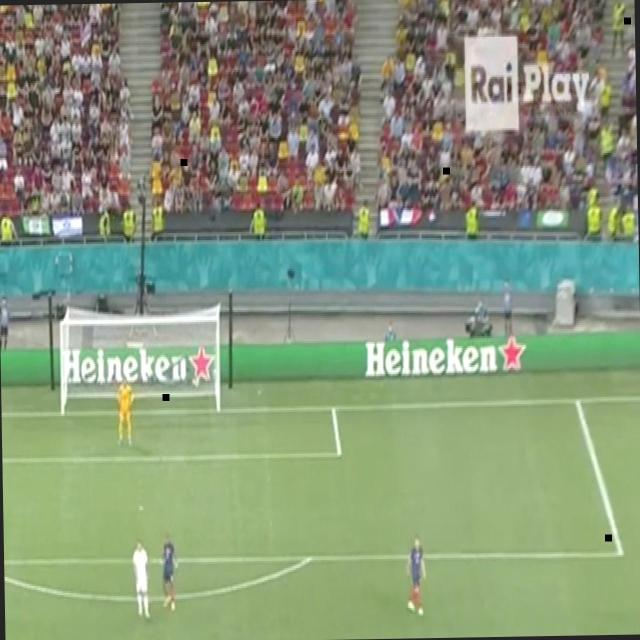player-white: (405, 532, 428, 620), (131, 539, 153, 623), (158, 534, 180, 616), (116, 378, 135, 447)
